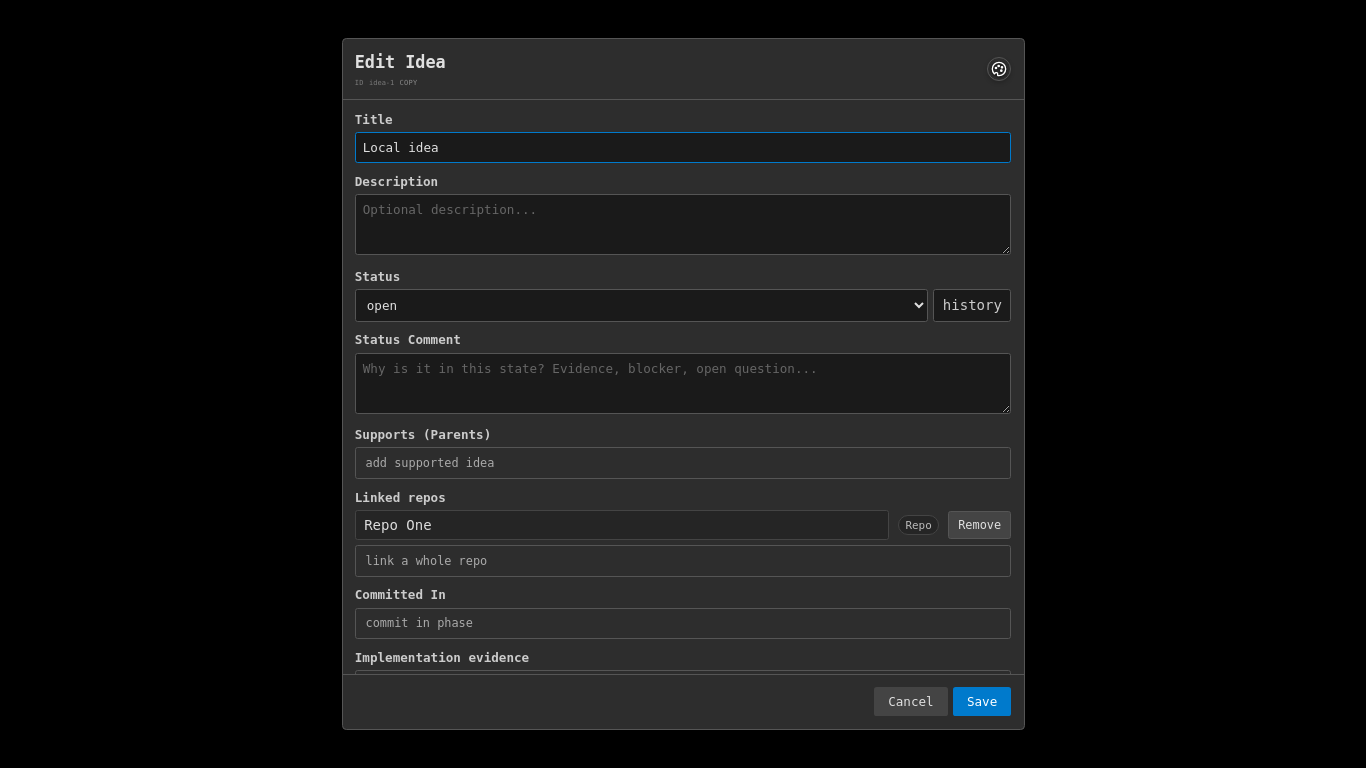
Test case: IdeaEditModal linked repos › lists existing repo links and opens the funnel with only the unlinked repos
This screenshot has width=1366, height=768.
Step 1. Click the button titled "Link a whole repo" → point(426, 561), box x1=355 y1=545 x2=1011 y2=577
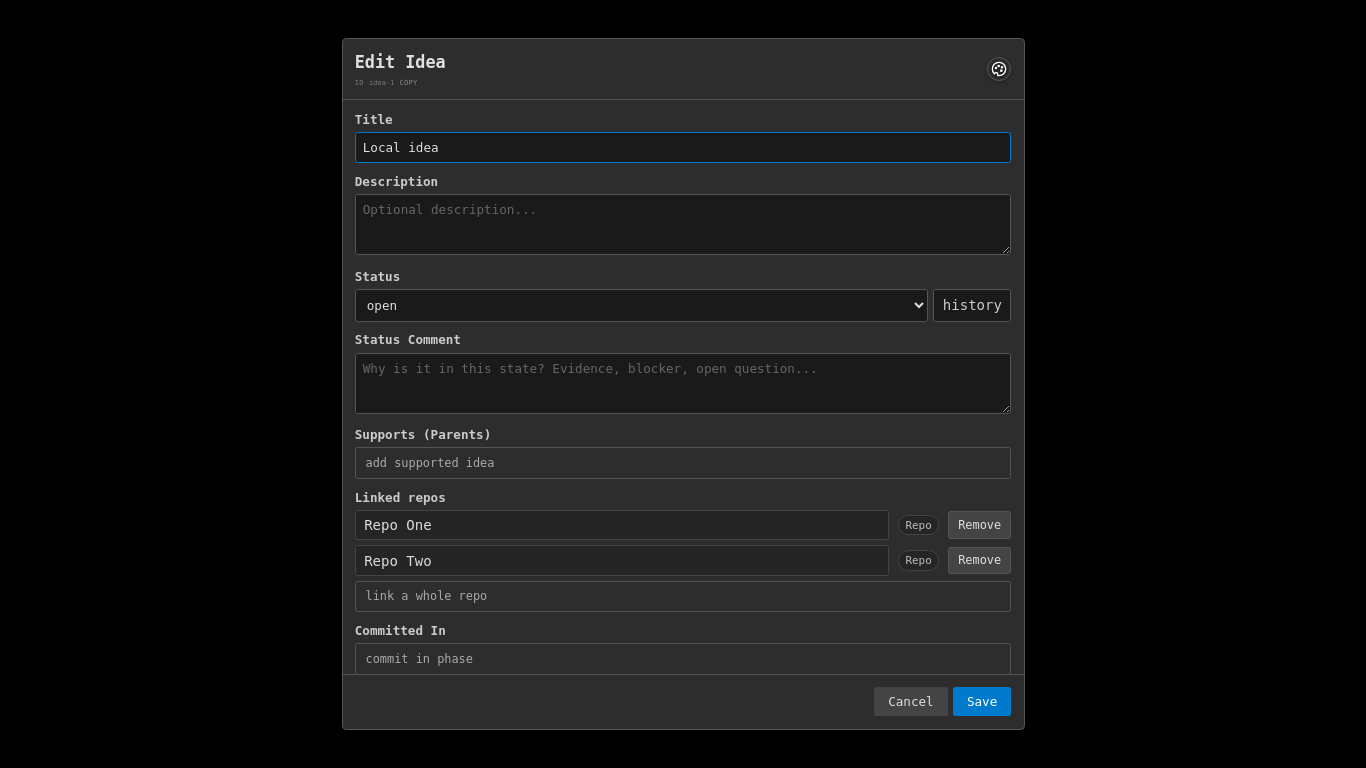
Result: the text "Repo Two" is shown at x1=355 y1=545 x2=889 y2=576
